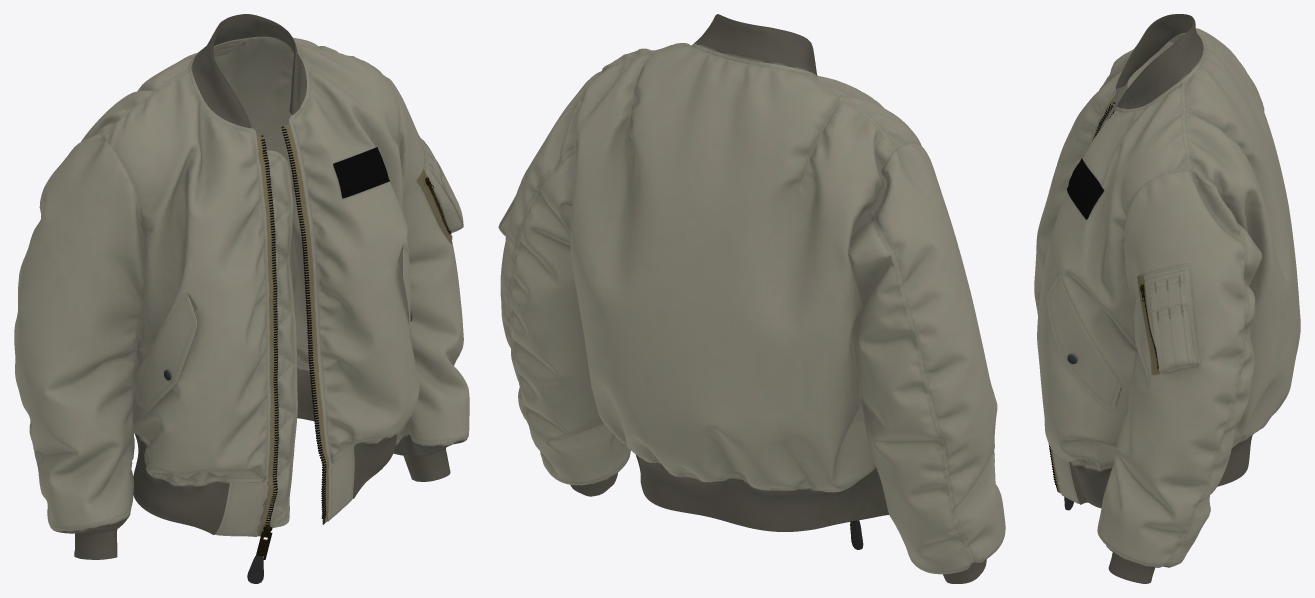
File: MA-1_CLO.glb
3 renders of one model, left to right at view 1: azimuth 30°, elevation 25°; view 2: azimuth 150°, elevation 25°; view 3: azimuth 270°, elevation 25°, orthographic. The views are drawn at different scales.
Visible parts, largest first — view 1: Cloth; view 2: Cloth; view 3: Cloth.
Boxes of the visible parts, box(x1,y1,x2,y2) form: Cloth: box(14, 14, 469, 583); Cloth: box(498, 14, 1005, 583); Cloth: box(1034, 14, 1300, 583).
Bounding box in the file's own units: 0.6944 × 0.7811 × 0.3713.
2 materials, 2 textured.
